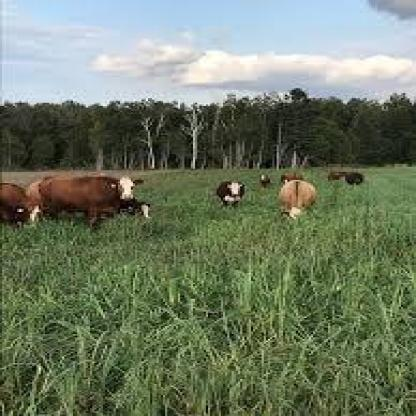cow: (28, 175, 139, 227), (0, 185, 45, 225), (278, 182, 318, 218), (216, 182, 246, 207), (119, 200, 153, 221), (325, 170, 359, 182), (280, 170, 308, 182), (256, 174, 274, 187), (345, 174, 367, 184)
